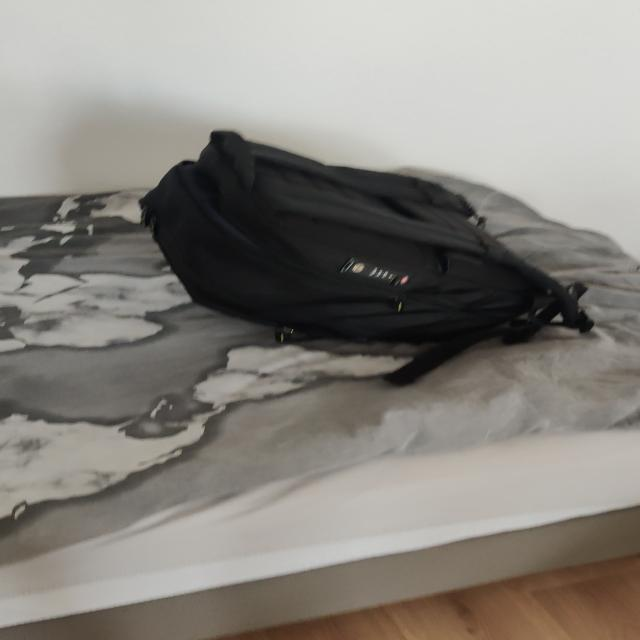backpack: (124, 124, 586, 366)
